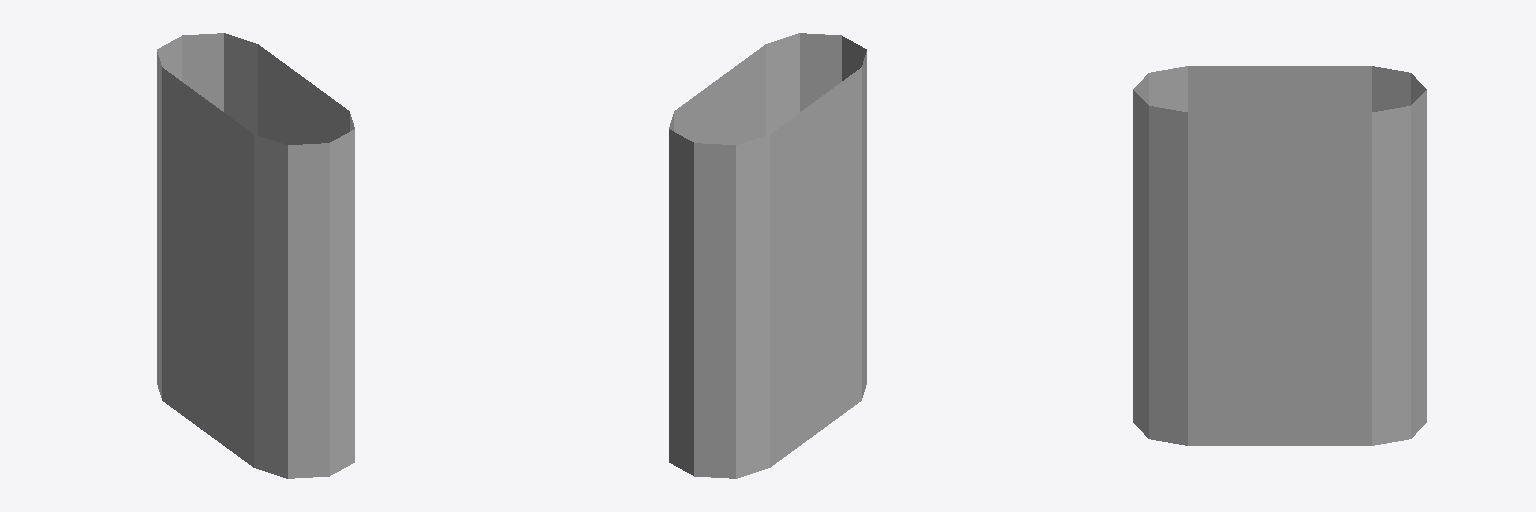
File: ovalbridgepillar.obj
3 views of the same model, side by side, from view 1: azimuth 30°, elevation 25°; view 2: azimuth 150°, elevation 25°; view 3: azimuth 270°, elevation 25° (orthographic).
Parts seen in each view (by area): view 1: Cylinder.001; view 2: Cylinder.001; view 3: Cylinder.001.
Boxes of the visible parts, x1,y1,x2,y2 form: Cylinder.001: [157, 33, 354, 478]; Cylinder.001: [669, 33, 866, 478]; Cylinder.001: [1133, 66, 1426, 445].
Size of the model in its own units: 0.5984 by 2 by 1.59.